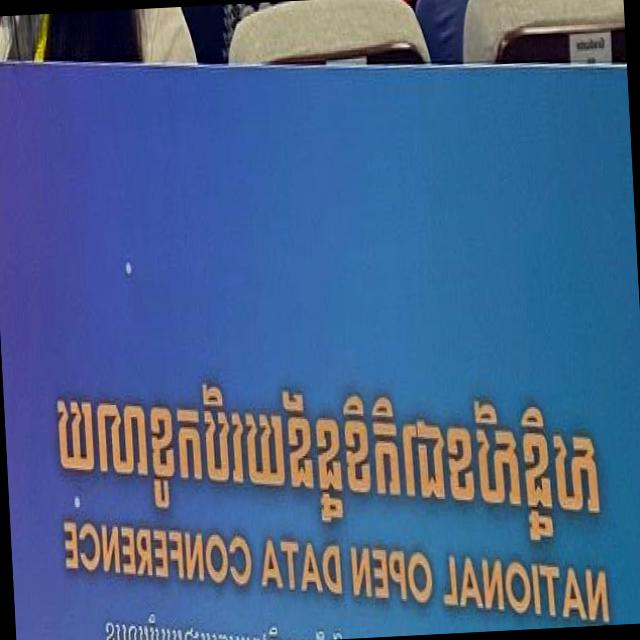Yolov11kh: (49, 358, 609, 571)
